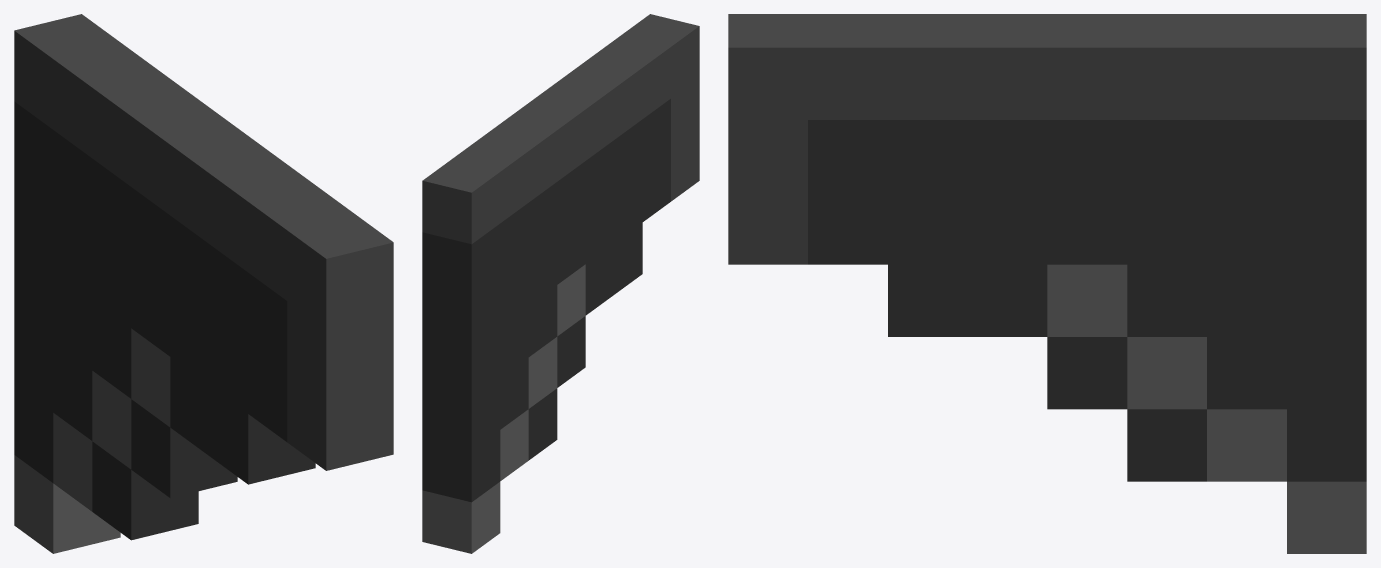
3 renders of one model, left to right at view 1: azimuth 30°, elevation 25°; view 2: azimuth 150°, elevation 25°; view 3: azimuth 270°, elevation 25°, orthographic. The views are drawn at different scales.
Visible parts, largest first — view 1: TV3; view 2: TV3; view 3: TV3.
Boxes of the visible parts, bbox=[...] form: TV3: bbox=[14, 14, 393, 553]; TV3: bbox=[422, 14, 699, 553]; TV3: bbox=[728, 14, 1366, 553].
Size of the model in its own units: 1 by 7 by 8.
Materials: 1 (1 with a texture image).
